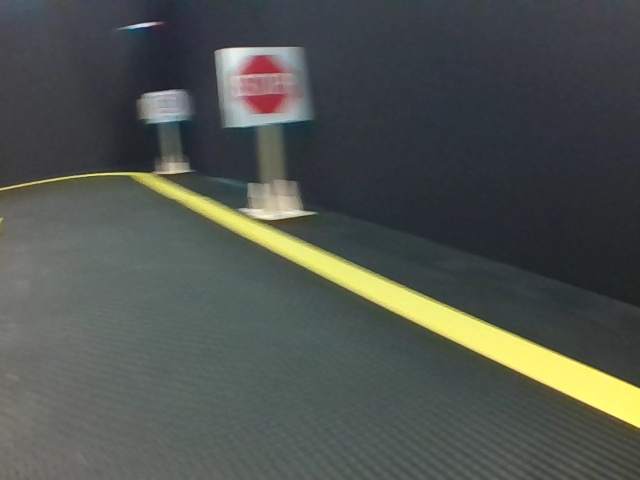30: (145, 93, 184, 125)
stop: (221, 48, 311, 124)
